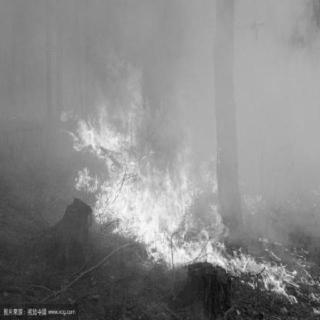Fire: (49, 32, 320, 316), (4, 108, 34, 124)
